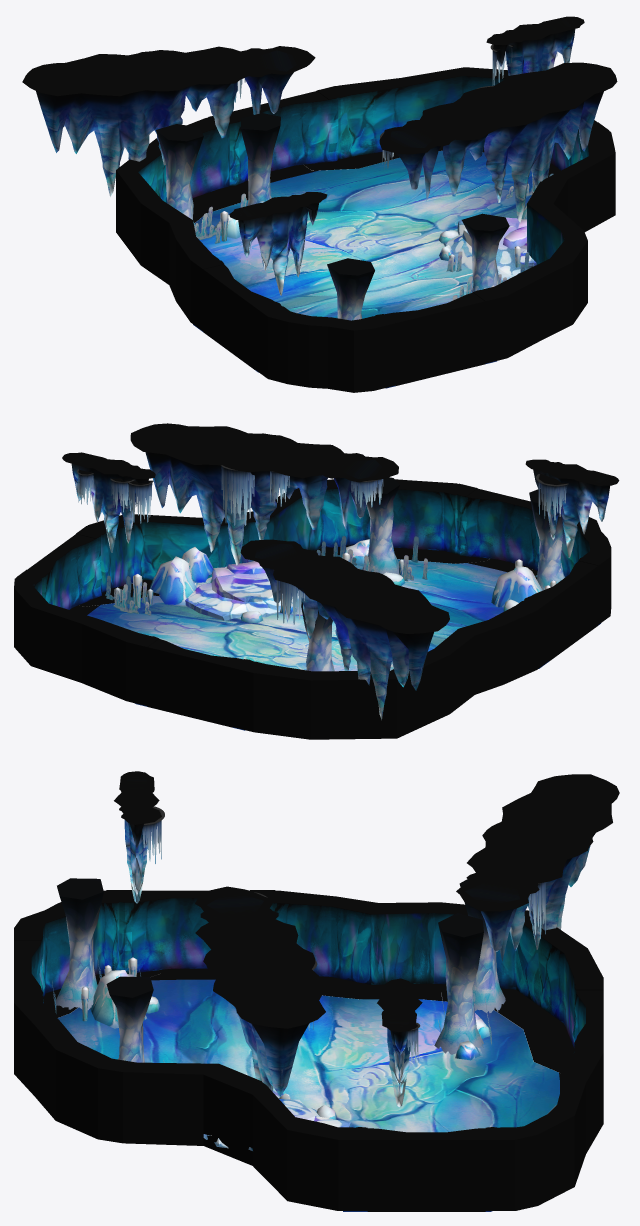
Rendered from Dungeon_072_QuestBossRoom.fbx.
The picture shows the model from 3 angles, top to bottom: view 1: azimuth 30°, elevation 25°; view 2: azimuth 150°, elevation 25°; view 3: azimuth 270°, elevation 25°; orthographic projection. The views are drawn at different scales.
Visible parts, largest first — view 1: Dun_072_Room_003_top, Dun_072_Room_003_wall, Dun_072_Room_003_ground, Dun_072_Door_002 (×4), Dun_072_OB_Pillar, Dun_072_OB_Big_stone, Dun_072_Room_003_shadow, Dun_072_OB_Ice_crystals02, Dun_072_OB_Icicle; view 2: Dun_072_Room_003_wall, Dun_072_Room_003_top, Dun_072_Door_002 (×4), Dun_072_Room_003_ground, Dun_072_OB_Icicle, Dun_072_OB_Pillar, Dun_072_OB_Stone02, Dun_072_OB_Big_stone, Dun_072_OB_Ice_crystals02, Dun_072_Room_003_shadow, Dun_072_OB_Ice_crystals01, Dun_072_OB_Stone01; view 3: Dun_072_Room_003_wall, Dun_072_Room_003_top, Dun_072_Room_003_ground, Dun_072_Door_002 (×4), Dun_072_OB_Pillar, Dun_072_Room_003_shadow, Dun_072_OB_Icicle, Dun_072_OB_Stone02, Dun_072_OB_Big_stone, Dun_072_OB_Stone01, Dun_072_Door_002_shadow.
Boxes of the visible parts, left/top/right/bottom form: Dun_072_Room_003_top: left=22, top=16, right=617, bottom=295; Dun_072_Room_003_wall: left=116, top=67, right=615, bottom=392; Dun_072_Room_003_ground: left=193, top=150, right=532, bottom=388; Dun_072_Door_002 (×4): left=193, top=86, right=608, bottom=385; Dun_072_OB_Pillar: left=156, top=113, right=509, bottom=320; Dun_072_OB_Big_stone: left=443, top=217, right=536, bottom=280; Dun_072_Room_003_shadow: left=192, top=146, right=484, bottom=222; Dun_072_OB_Ice_crystals02: left=194, top=173, right=553, bottom=304; Dun_072_OB_Icicle: left=234, top=44, right=557, bottom=169; Dun_072_Room_003_wall: left=14, top=479, right=611, bottom=739; Dun_072_Room_003_top: left=62, top=423, right=619, bottom=720; Dun_072_Door_002 (×4): left=16, top=483, right=608, bottom=727; Dun_072_Room_003_ground: left=87, top=559, right=600, bottom=730; Dun_072_OB_Icicle: left=77, top=465, right=568, bottom=624; Dun_072_OB_Pillar: left=301, top=477, right=564, bottom=671; Dun_072_OB_Stone02: left=149, top=539, right=542, bottom=607; Dun_072_OB_Big_stone: left=185, top=561, right=298, bottom=620; Dun_072_OB_Ice_crystals02: left=105, top=536, right=538, bottom=615; Dun_072_Room_003_shadow: left=79, top=546, right=537, bottom=606; Dun_072_OB_Ice_crystals01: left=114, top=552, right=556, bottom=608; Dun_072_OB_Stone01: left=240, top=572, right=518, bottom=623; Dun_072_Room_003_wall: left=14, top=890, right=603, bottom=1210; Dun_072_Room_003_top: left=114, top=771, right=619, bottom=1107; Dun_072_Room_003_ground: left=57, top=979, right=559, bottom=1211; Dun_072_Door_002 (×4): left=14, top=890, right=603, bottom=1211; Dun_072_OB_Pillar: left=55, top=878, right=505, bottom=1062; Dun_072_Room_003_shadow: left=43, top=970, right=574, bottom=1113; Dun_072_OB_Icicle: left=142, top=806, right=545, bottom=1064; Dun_072_OB_Stone02: left=90, top=970, right=491, bottom=1150; Dun_072_OB_Big_stone: left=203, top=1099, right=350, bottom=1148; Dun_072_OB_Stone01: left=146, top=996, right=480, bottom=1119; Dun_072_Door_002_shadow: left=150, top=968, right=216, bottom=980.
Size of what is drawn, in the model's own units: 16.46 by 5.05 by 15.57.
